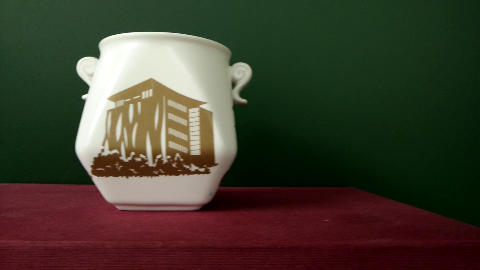library: (105, 87, 206, 169)
